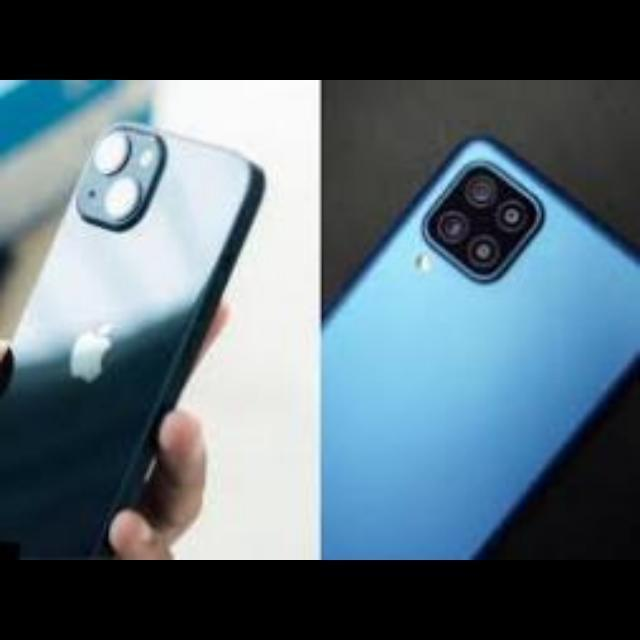phone: (323, 131, 640, 561), (6, 87, 294, 557)
